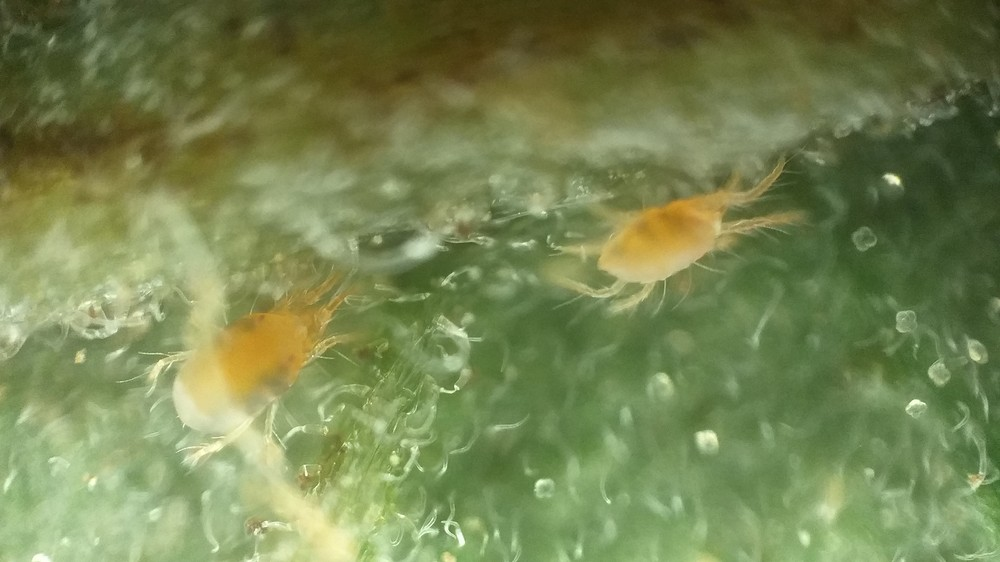Aracnido Rojo: (134, 262, 383, 469), (530, 155, 824, 312)
